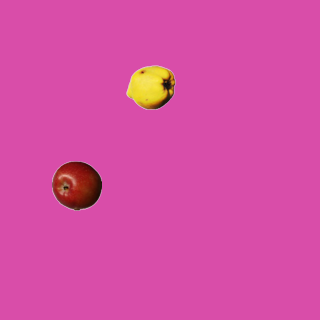Apple Braeburn: (51, 160, 101, 210)
Quince: (125, 62, 175, 112)
